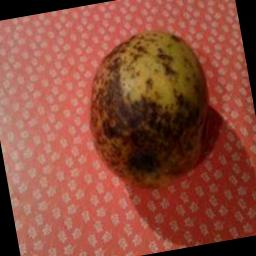Mango Rotten: (66, 9, 220, 183)
